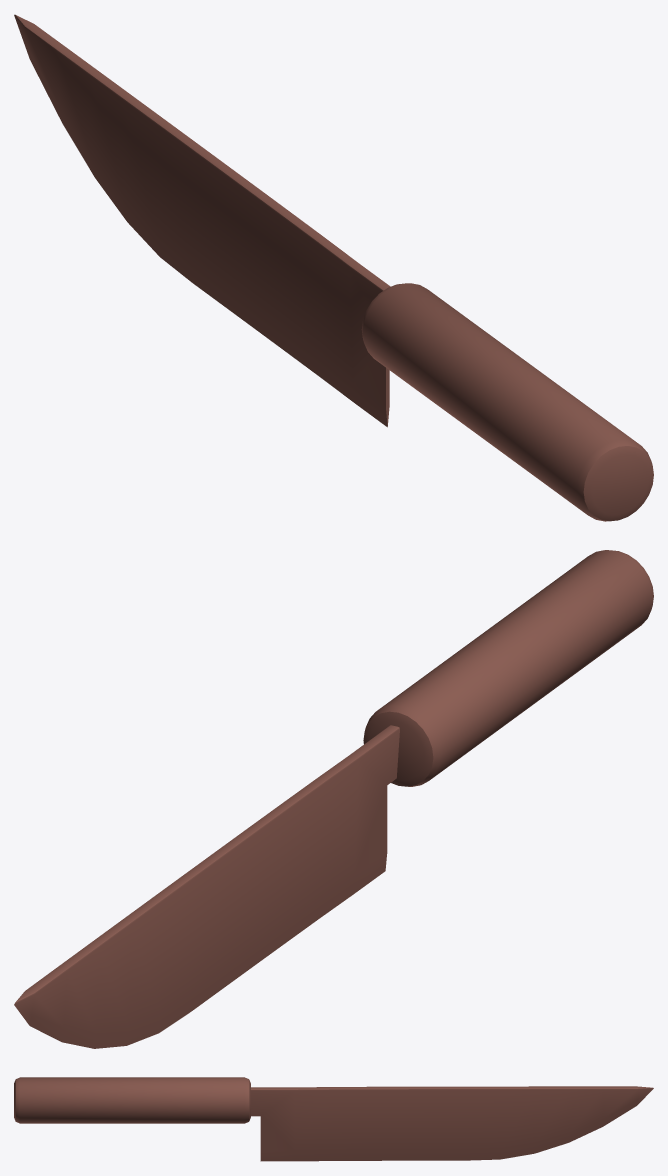
The model's file is Knife.fbx.
The picture shows the model from 3 angles, top to bottom: view 1: azimuth 30°, elevation 25°; view 2: azimuth 150°, elevation 25°; view 3: azimuth 270°, elevation 25°; orthographic projection. The views are drawn at different scales.
Visible parts, largest first — view 1: Plane, Cylinder.003; view 2: Plane, Cylinder.003; view 3: Plane, Cylinder.003.
Boxes of the visible parts, x1,y1,x2,y2 form: Plane: (14, 14, 390, 427); Cylinder.003: (361, 283, 653, 521); Plane: (14, 725, 399, 1048); Cylinder.003: (363, 550, 653, 786); Plane: (251, 1086, 653, 1161); Cylinder.003: (14, 1077, 250, 1123).
Bounding box in the file's own units: 24.09 × 46.83 × 334.
